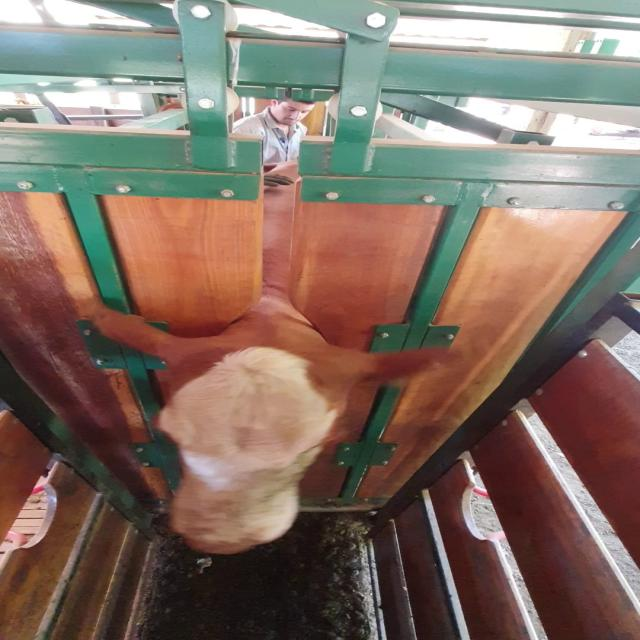cowFace: (157, 335, 333, 553)
